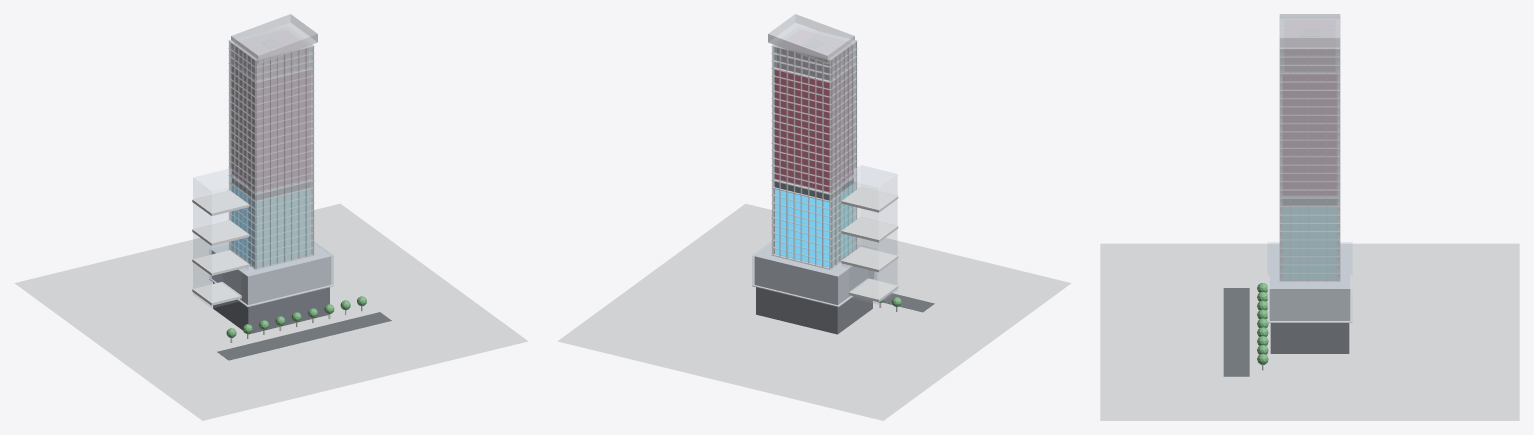
The model's file is LightExchange_DigitalTwin.glb.
3 views of the same model, side by side, from view 1: azimuth 30°, elevation 25°; view 2: azimuth 150°, elevation 25°; view 3: azimuth 270°, elevation 25° (orthographic). The views are drawn at different scales.
Visible parts, largest first — view 1: Plaza_Ground, Mullion_VS_0, Mullion_VF_0, Zone_B_Podium, Facade_Secondary_Tower, Zone_D_Hyatt_Hotel, Zone_A_ME_Plant, Zone_C_Offices, Facade_Crown_Slope, Street, Mullion_H_28, Sec_Band_12 (+3 smaller); view 2: Plaza_Ground, Zone_D_Hyatt_Hotel, Mullion_VF_0, Zone_C_Offices, Zone_B_Podium, Facade_Secondary_Tower, Zone_A_ME_Plant, Facade_Crown_Slope, Mullion_VS_6, Mullion_H_28, Sec_Band_8, Sec_Band_12 (+6 smaller); view 3: Plaza_Ground, Mullion_VF_8, Zone_D_Hyatt_Hotel, Zone_B_Podium, Zone_C_Offices, Zone_A_ME_Plant, Street, Facade_Crown_Slope, Mullion_H_28, Zone_E_Amenities, Mullion_VS_5, Slab_0.
Boxes of the visible parts, x1,y1,x2,y2 form: Plaza_Ground: (14, 203, 528, 420); Mullion_VS_0: (254, 46, 313, 268); Mullion_VF_0: (229, 41, 256, 268); Zone_B_Podium: (211, 244, 331, 304); Facade_Secondary_Tower: (193, 169, 248, 307); Zone_D_Hyatt_Hotel: (232, 67, 310, 190); Zone_A_ME_Plant: (213, 282, 329, 334); Zone_C_Offices: (232, 186, 310, 266); Facade_Crown_Slope: (231, 14, 317, 64); Street: (217, 312, 391, 360); Mullion_H_28: (228, 31, 314, 60); Sec_Band_12: (192, 190, 249, 215); Plaza_Ground: (557, 203, 1071, 420); Zone_D_Hyatt_Hotel: (775, 67, 853, 191); Mullion_VF_0: (829, 41, 855, 268); Zone_C_Offices: (775, 186, 853, 266); Zone_B_Podium: (754, 243, 874, 304); Facade_Secondary_Tower: (842, 165, 897, 304); Zone_A_ME_Plant: (756, 287, 872, 334); Facade_Crown_Slope: (768, 14, 854, 64); Mullion_VS_6: (774, 47, 832, 267); Mullion_H_28: (771, 31, 857, 60); Sec_Band_8: (841, 217, 898, 242); Sec_Band_12: (841, 187, 898, 212); Plaza_Ground: (1100, 243, 1519, 420); Mullion_VF_8: (1279, 48, 1340, 280); Zone_D_Hyatt_Hotel: (1283, 75, 1335, 194); Zone_B_Podium: (1269, 244, 1350, 320); Zone_C_Offices: (1283, 208, 1335, 278); Zone_A_ME_Plant: (1270, 323, 1349, 353); Street: (1223, 288, 1249, 376); Facade_Crown_Slope: (1279, 14, 1340, 47); Mullion_H_28: (1280, 18, 1339, 49); Zone_E_Amenities: (1285, 50, 1334, 70); Mullion_VS_5: (1326, 49, 1327, 281); Slab_0: (1267, 275, 1352, 322).
Bounding box in the file's own units: 160 × 131 × 160.
